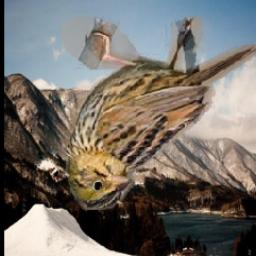Sparrow: (63, 17, 256, 210)
